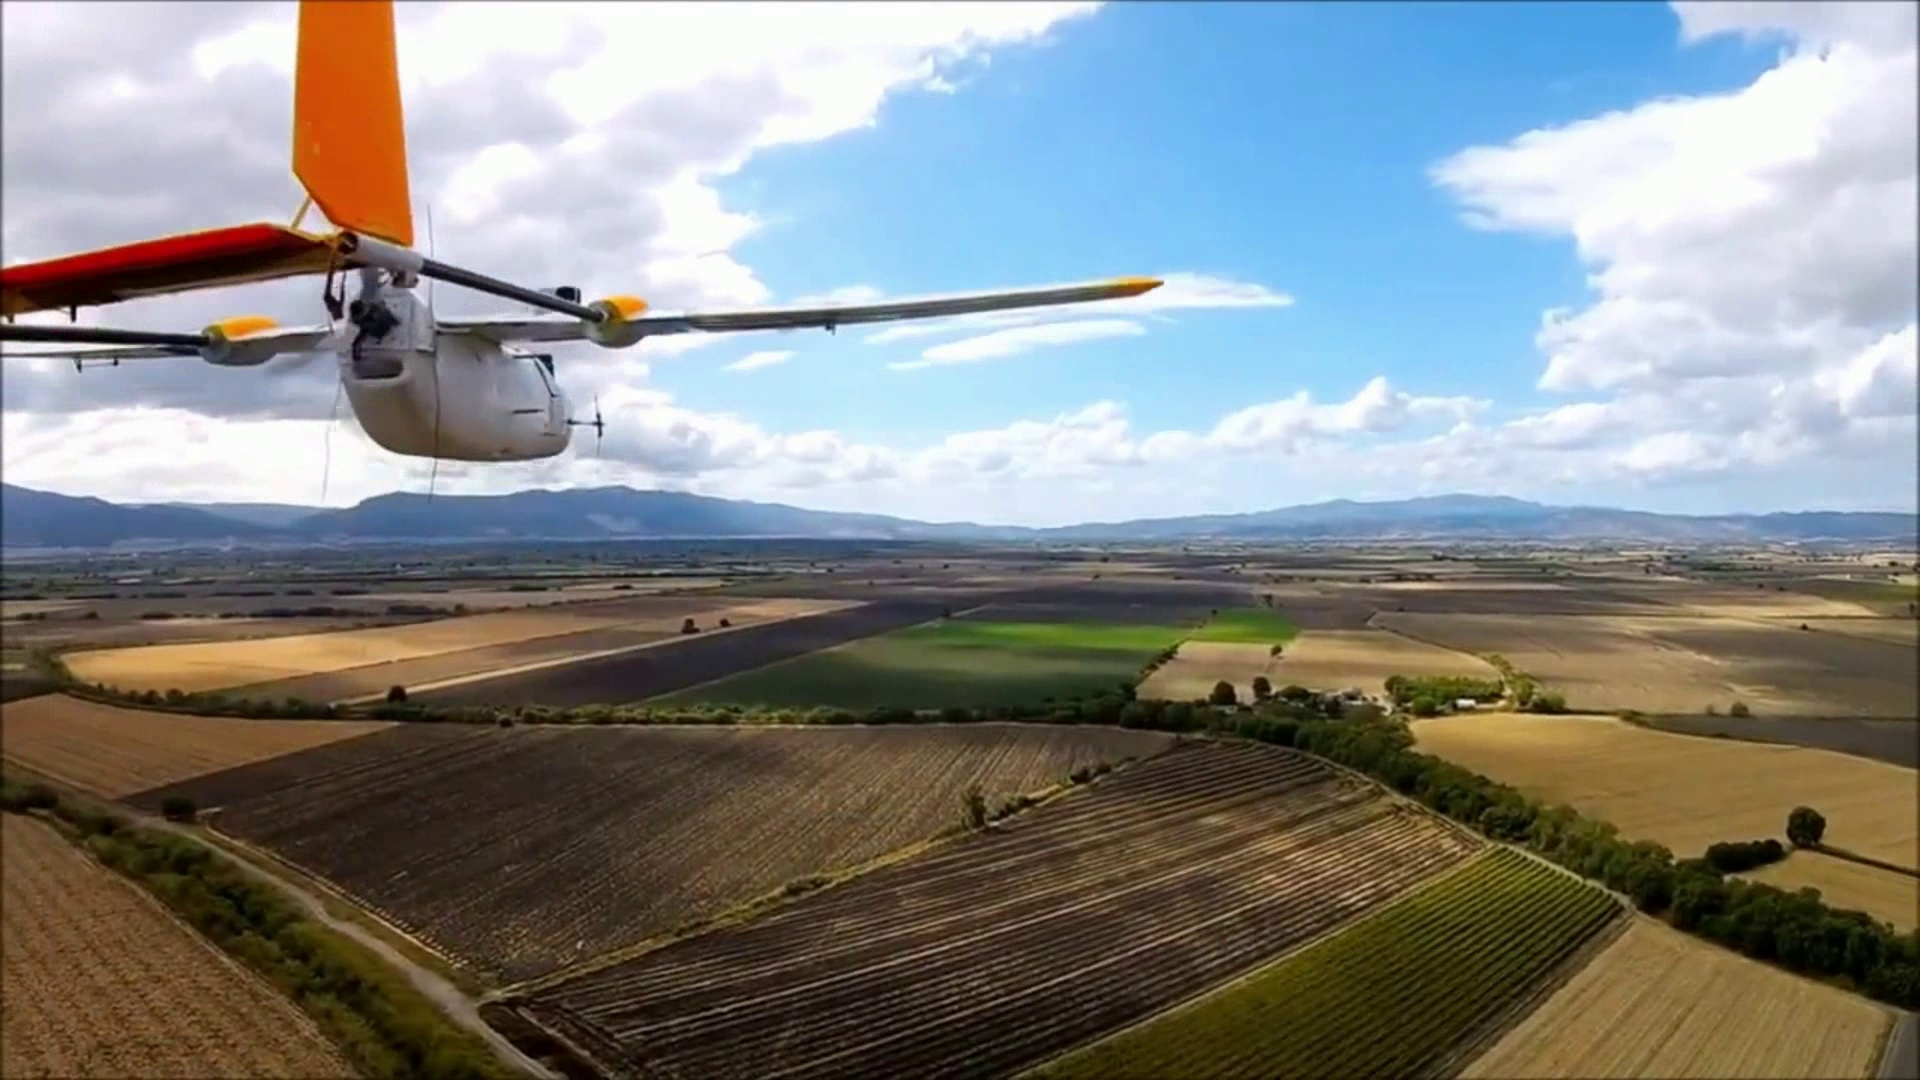airplane: (7, 5, 1170, 469)
